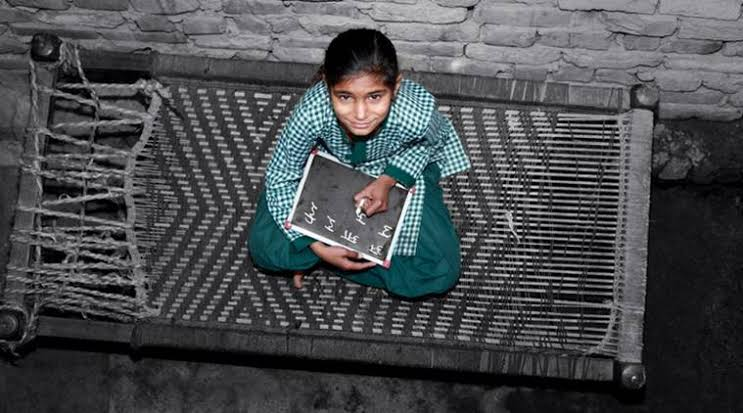student: (317, 36, 397, 136)
